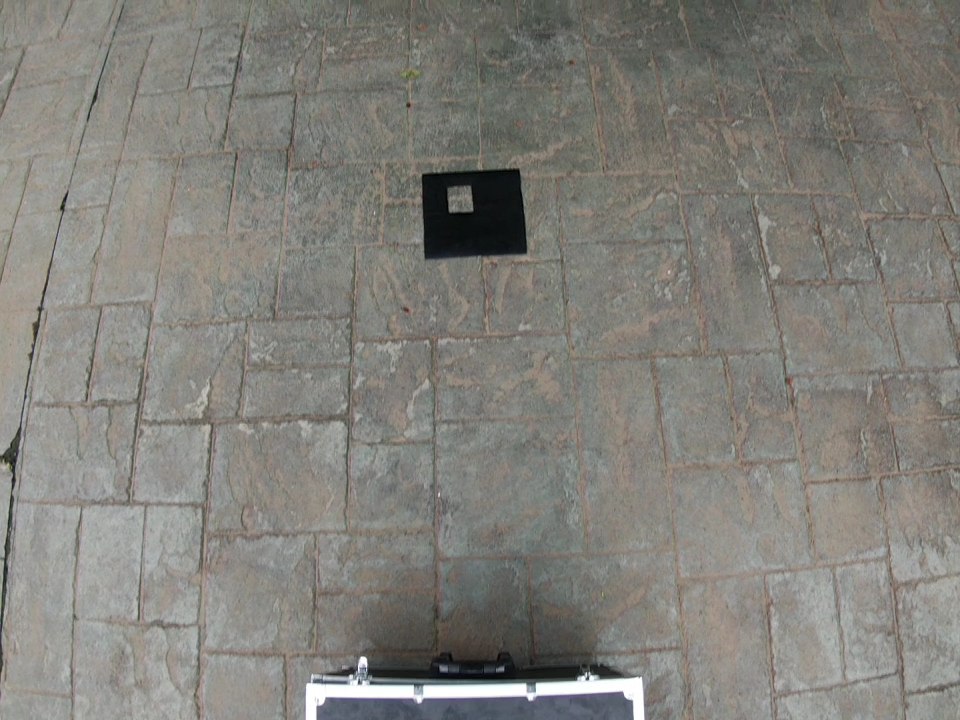qrcode: (422, 169, 527, 259)
